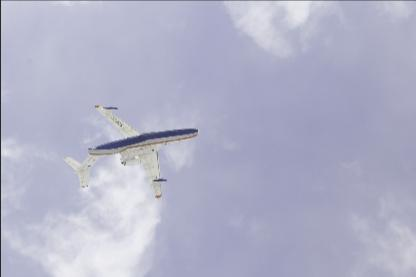B52: (62, 104, 198, 197)
